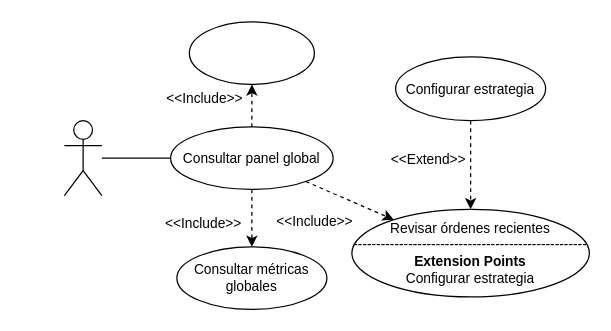
Some shapes in this 611 by 331 pixel diagram are drawn without their labels. Each missing label, with the centre of its shape:
"Filtrar por modo simulado o real" goes at pixel 251 52.
"Usuario Autenticado" goes at pixel 82 157.
